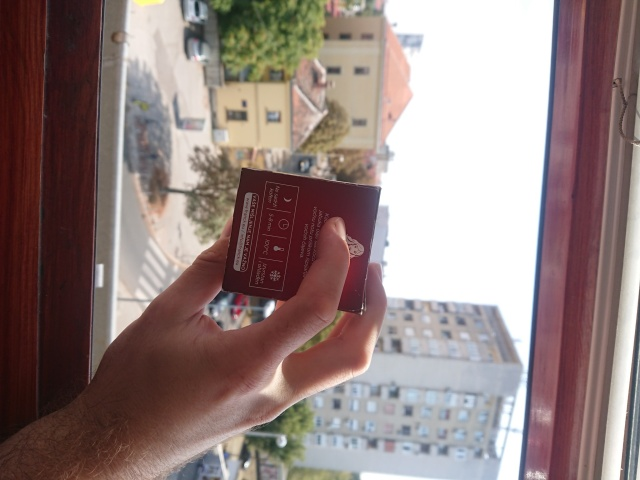Franck Apple Cinnamon Tea 60g: (218, 165, 383, 317)
